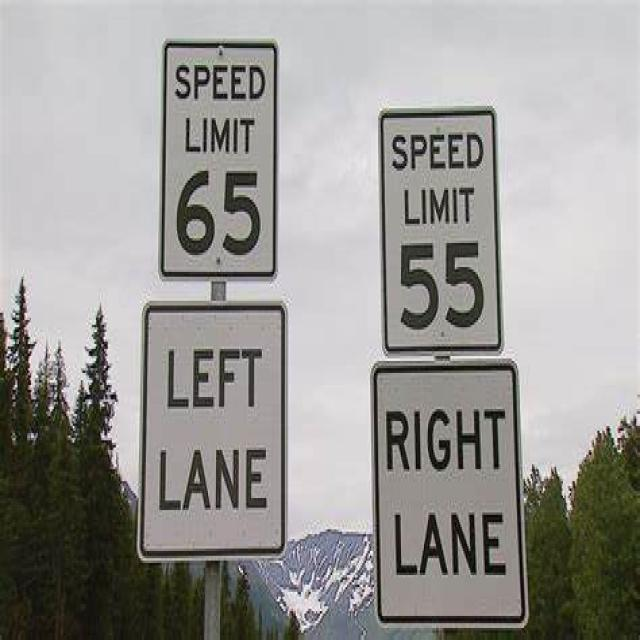speedLimit55: (376, 110, 499, 347)
speedLimit65: (164, 47, 278, 278)
